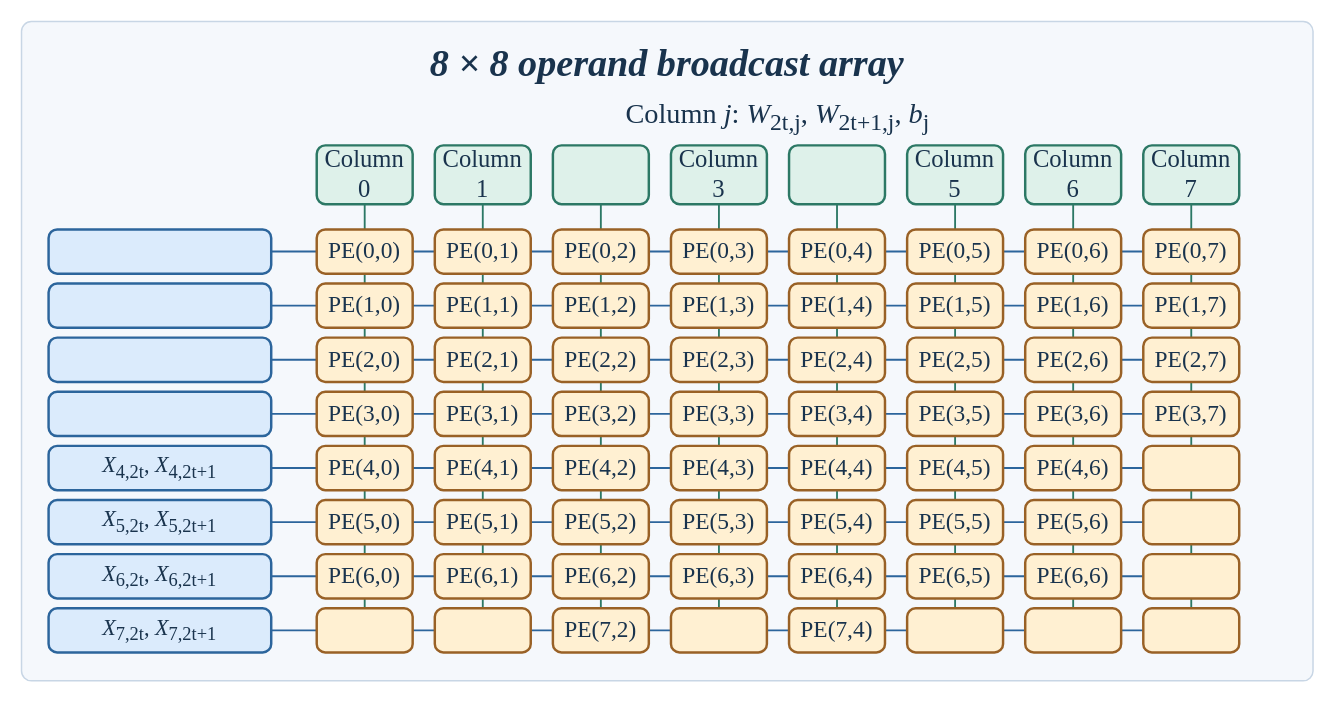
Some shapes in this 1336 by 704 pixel diagram are drawn without their labels. Each missing label, with the centre of its shape:
Column 2: point (600, 174)
Column 4: point (836, 174)
PE(4,7): point (1190, 467)
PE(5,7): point (1190, 521)
PE(6,7): point (1190, 575)
PE(7,0): point (364, 629)
PE(7,1): point (482, 629)
PE(7,3): point (718, 629)
PE(7,5): point (954, 629)
PE(7,6): point (1072, 629)
PE(7,7): point (1190, 629)
X 0,2t , X 0,2t+1: point (159, 251)
X 1,2t , X 1,2t+1: point (159, 305)
X 2,2t , X 2,2t+1: point (159, 359)
X 3,2t , X 3,2t+1: point (159, 413)
